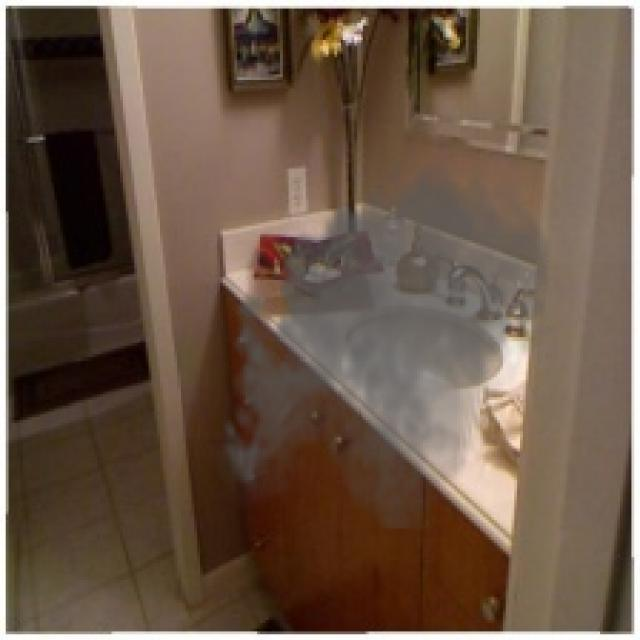Smoke: (212, 146, 557, 528)
